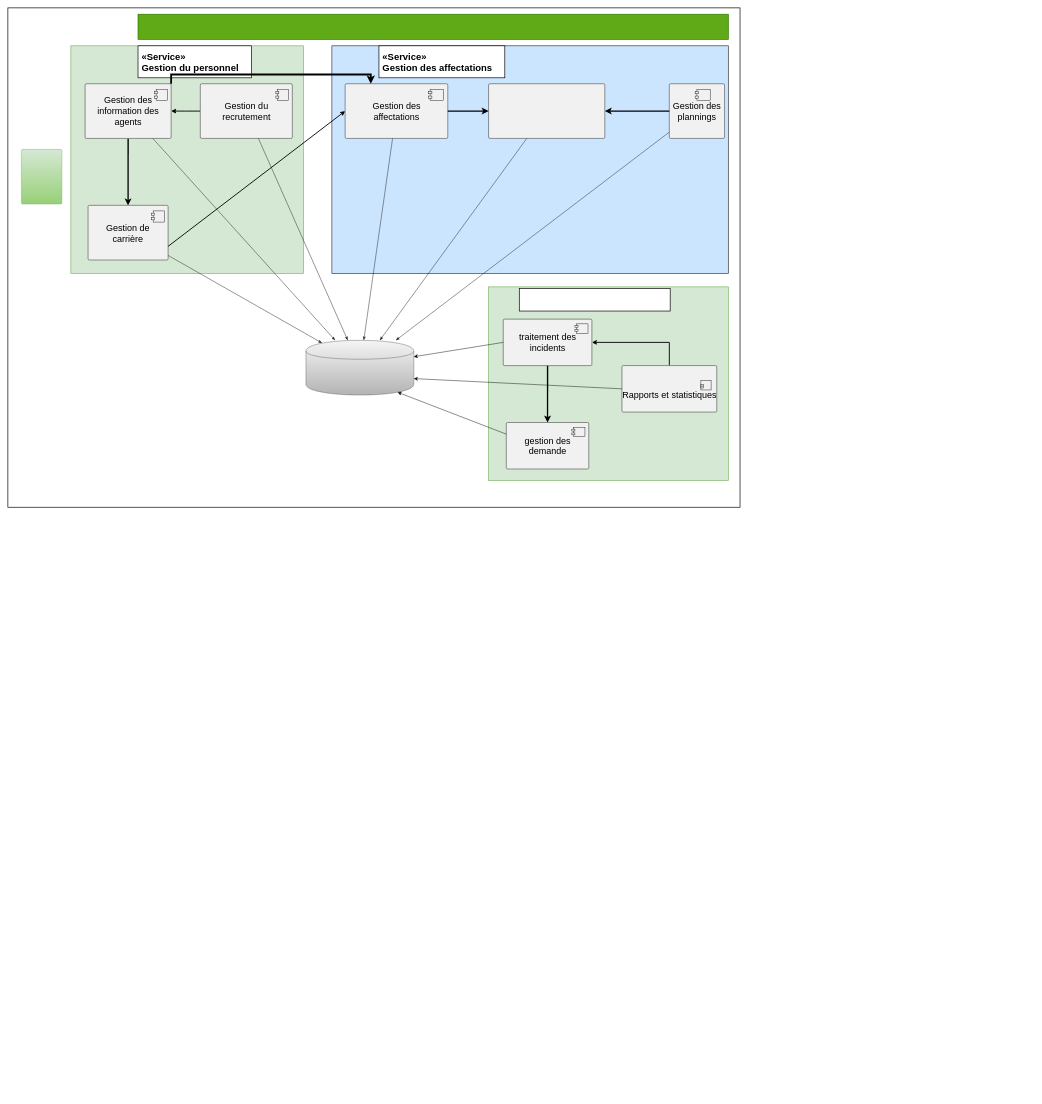
Some shapes in this 1042 by 1104 pixel diagram are drawn without their labels. The shapes that lost their labels are listed below. From the top down, each one's centre as x and y in pixels, then its label:
At (432,27): "Plateforme de gestion des agents de sécurité de l'UASZ".
At (546,110): "Gestion des présences".
At (41,176): "«Core» Interface Web".
At (594,299): "«Service» Gestion des incidents".
At (360,367): "Base de données".
